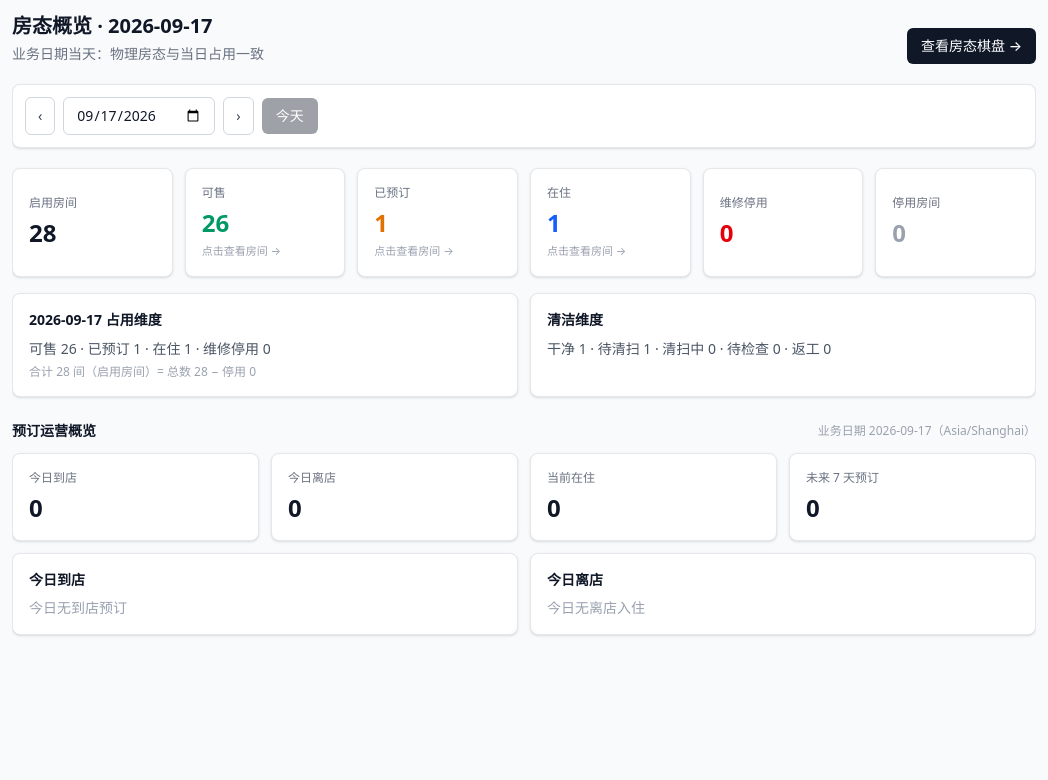
it: DashboardView 按日期房态（alpha.9.6 F2） › 在住房间钻取展示 stay_no；再点同一卡片收起
What coordinates should you click on to do the following:
click the button "在住 1 点击查看房间 →"
I would click on:
 (610, 222)
Its box is [530,168,691,276].
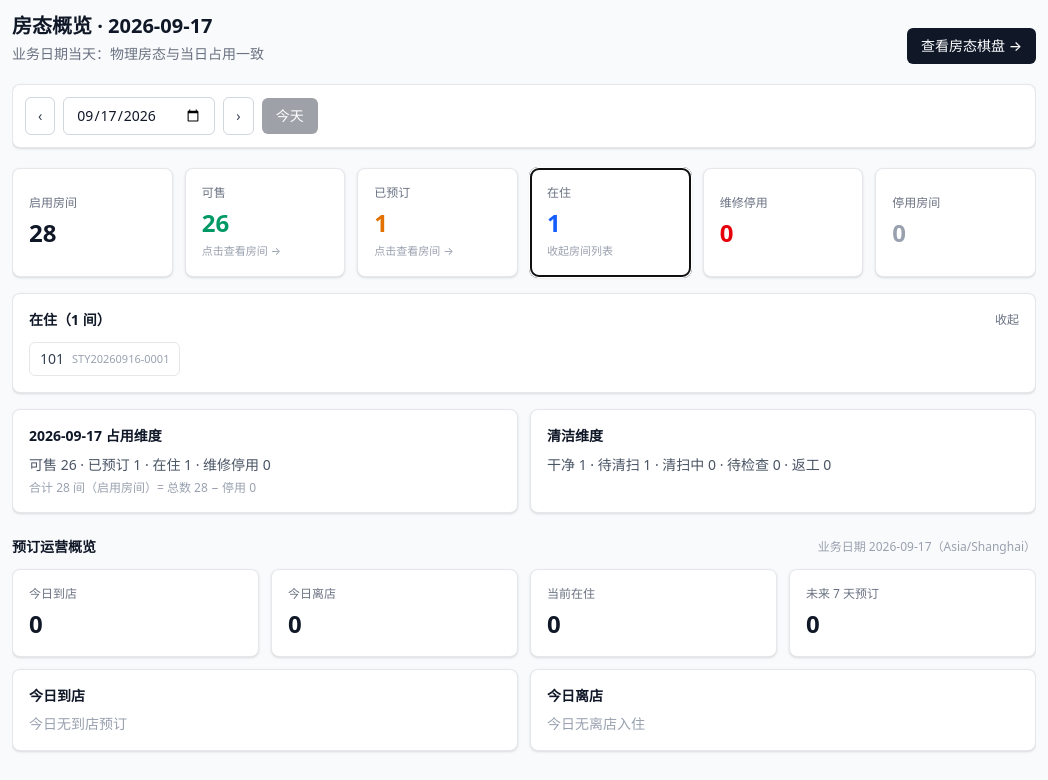
Now the text "STY20260916-0001" is shown, box [72,351,169,366]
What coordinates should you click on to do the following:
click the button "收起"
I would click on:
 (1007, 320)
Its box is [995,312,1019,328].
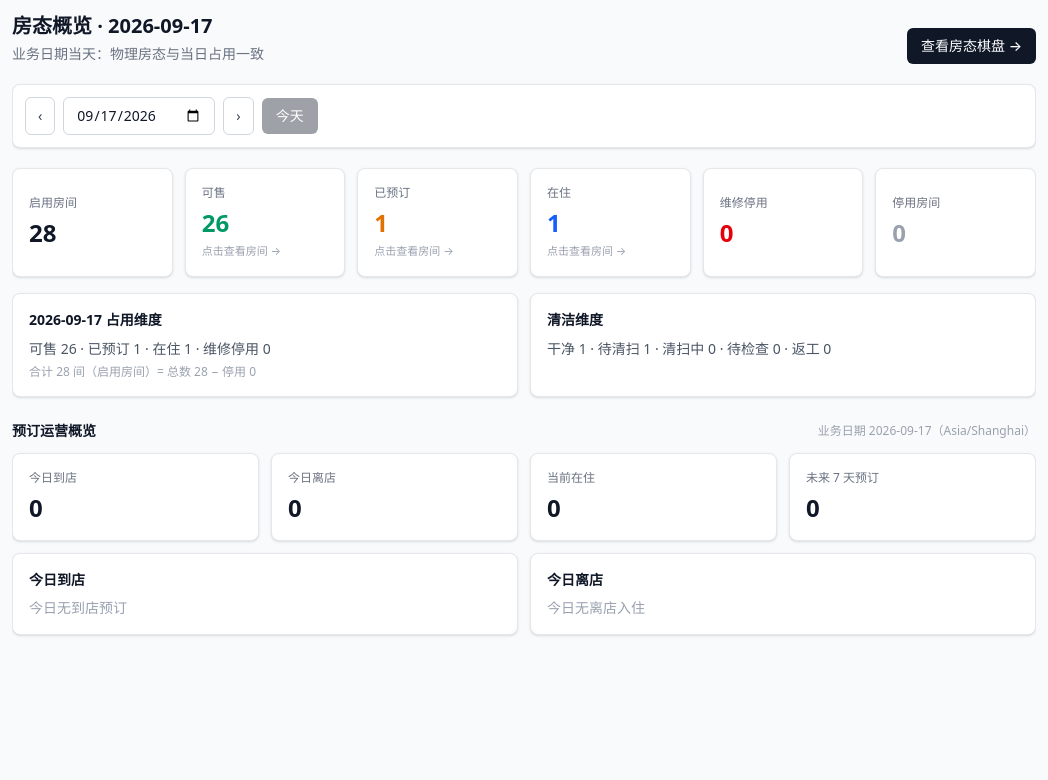
Now the link "STY20260916-0001" is gone
